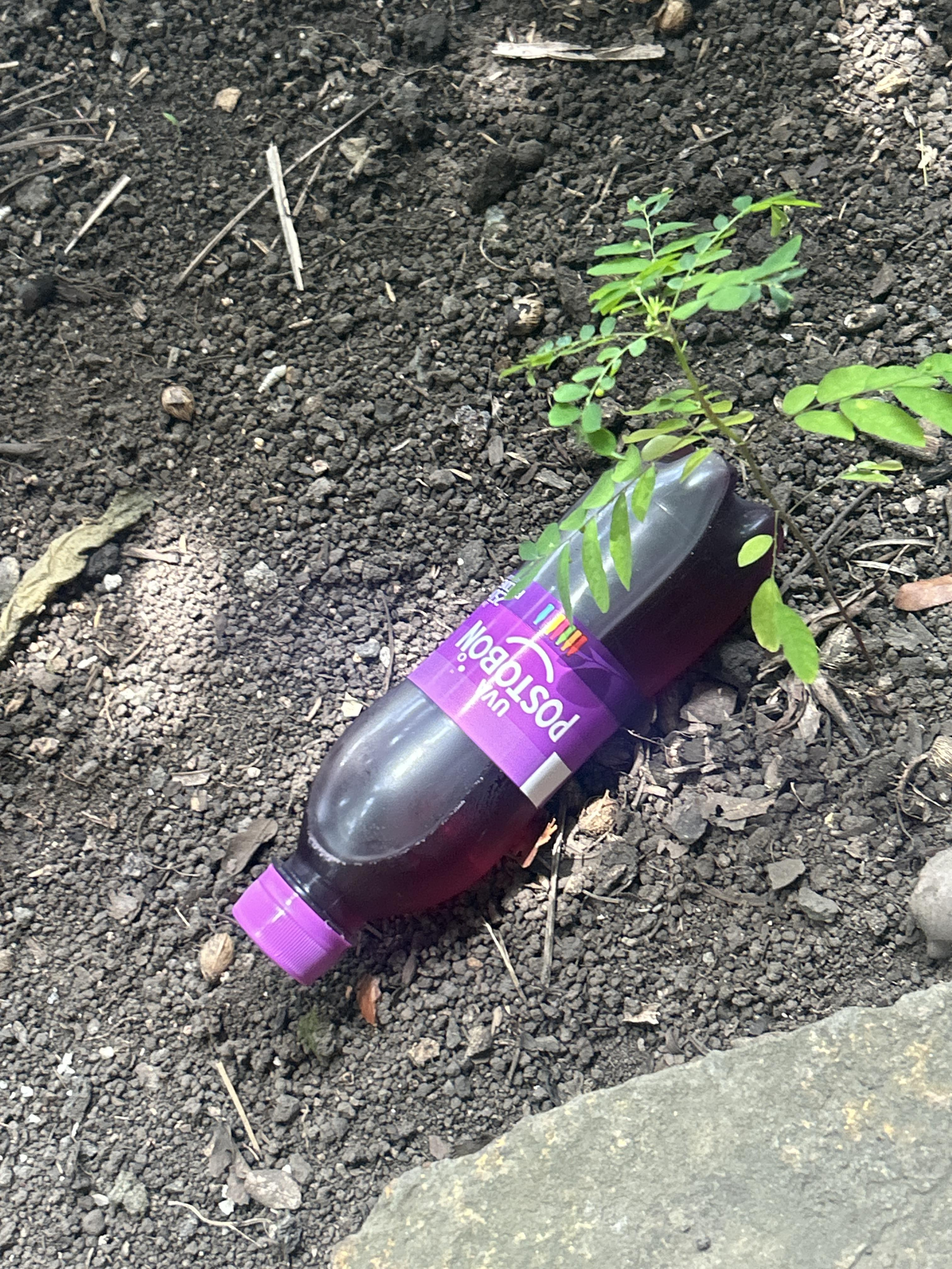uva: (233, 437, 778, 984)
